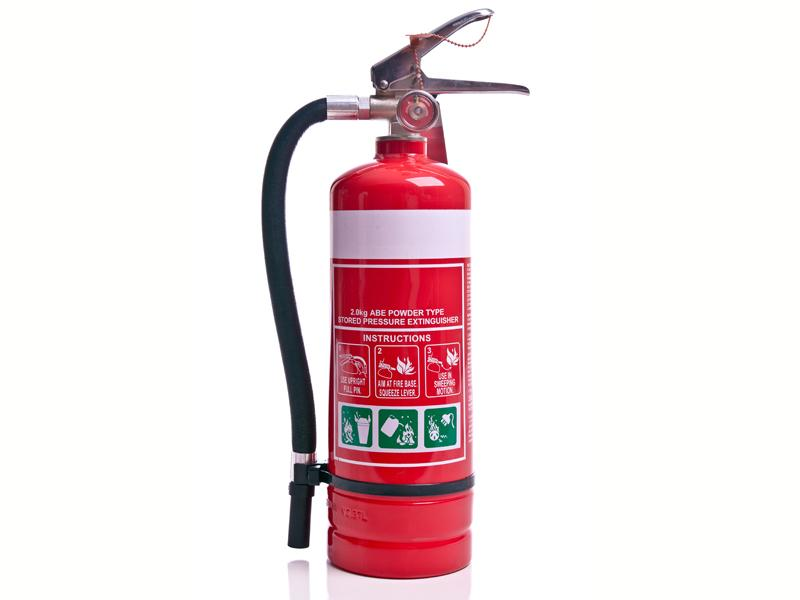Fire Extinguisher: (247, 8, 552, 587)
